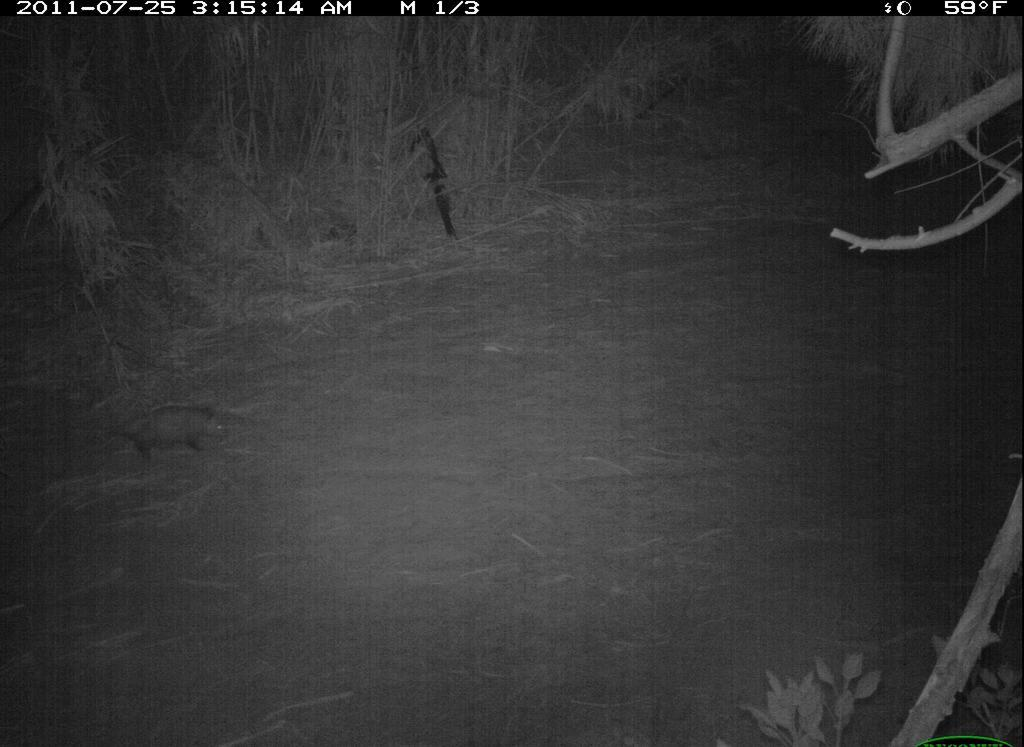opossum: (103, 401, 236, 463)
